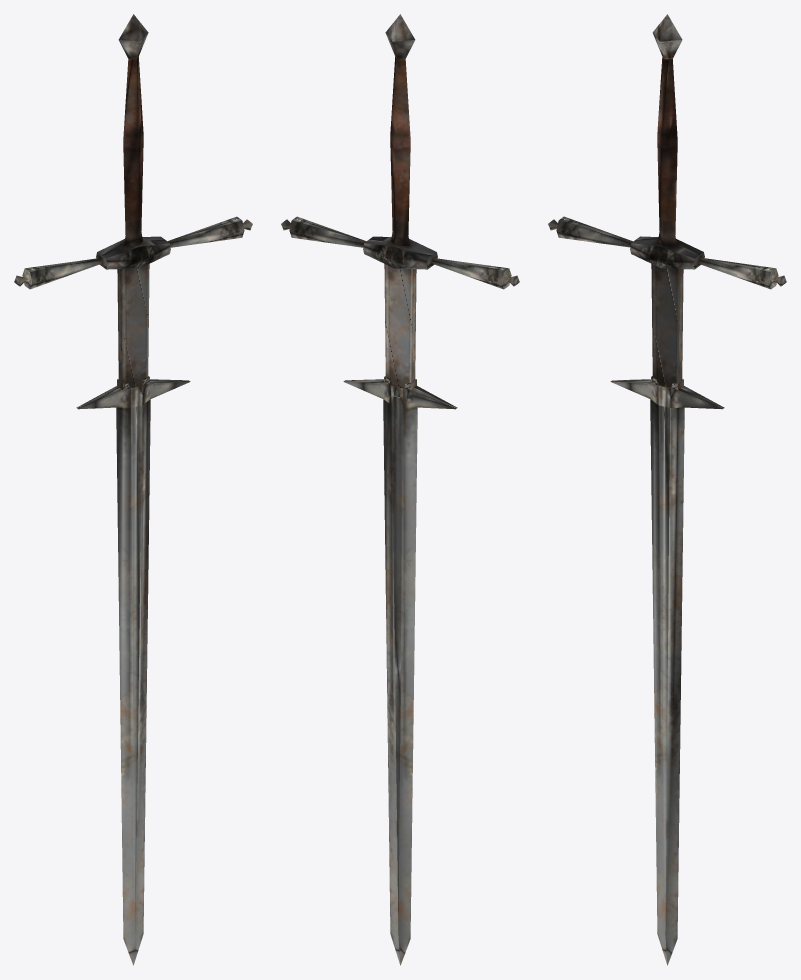
Rendered from sword.glb.
3 renders of one model, left to right at view 1: azimuth 30°, elevation 25°; view 2: azimuth 150°, elevation 25°; view 3: azimuth 330°, elevation 25°, orthographic.
Visible parts, largest first — view 1: mesh0, mesh1; view 2: mesh0, mesh1; view 3: mesh0, mesh1.
Boxes of the visible parts, x1,y1,x2,y2 form: mesh0: (14, 14, 252, 965); mesh1: (123, 56, 143, 246); mesh0: (281, 14, 519, 965); mesh1: (390, 56, 410, 246); mesh0: (548, 14, 786, 965); mesh1: (657, 57, 677, 245).
Bounding box in the file's own units: 0.5403 × 2.06 × 0.0696.
2 materials, 2 textured.
